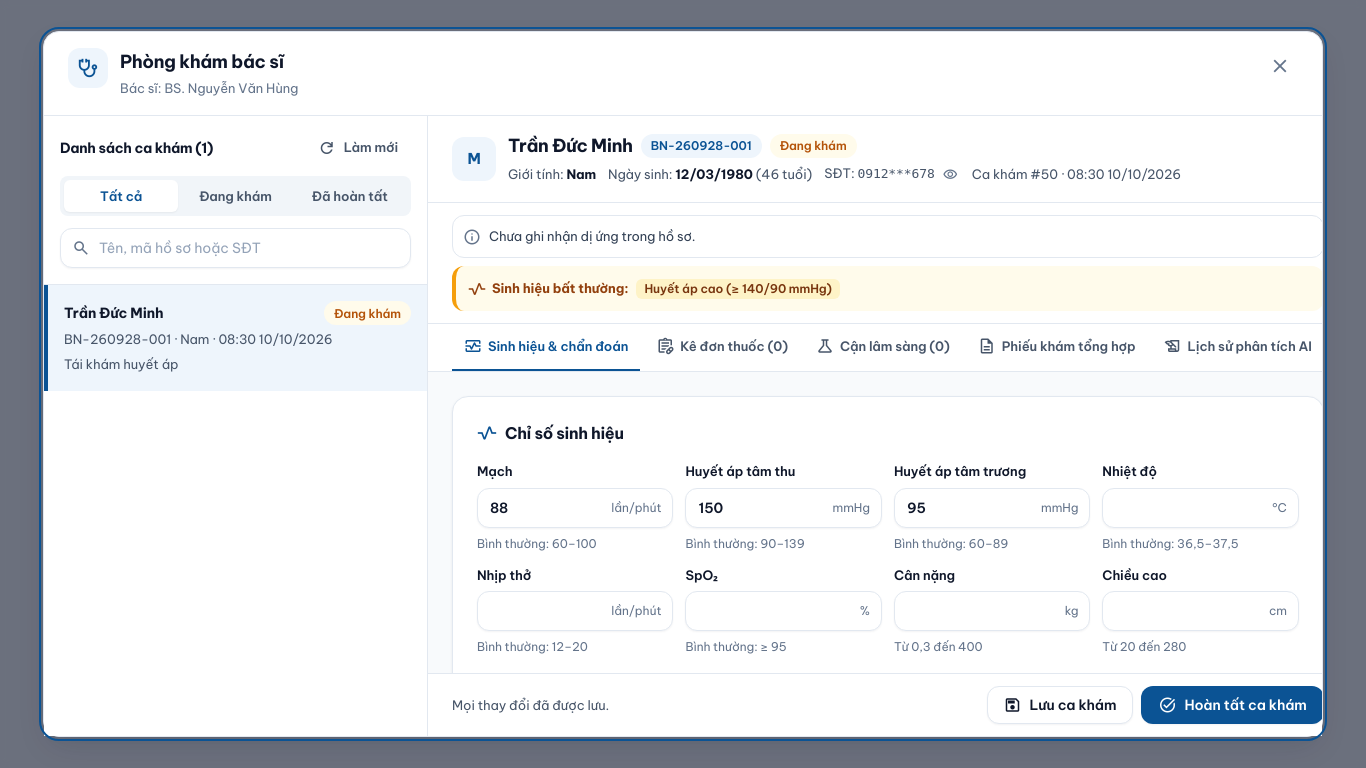
Scenario: Khám bệnh – giao diện Phòng khám bác sĩ (VisitDashboard) › hoàn tất ca khám bắt buộc có mã ICD-10 và không gọi máy chủ khi thiếu
Click the button "Hoàn tất ca khám".
click(1233, 705)  # box [1141,686,1324,724]
(page scrolled)
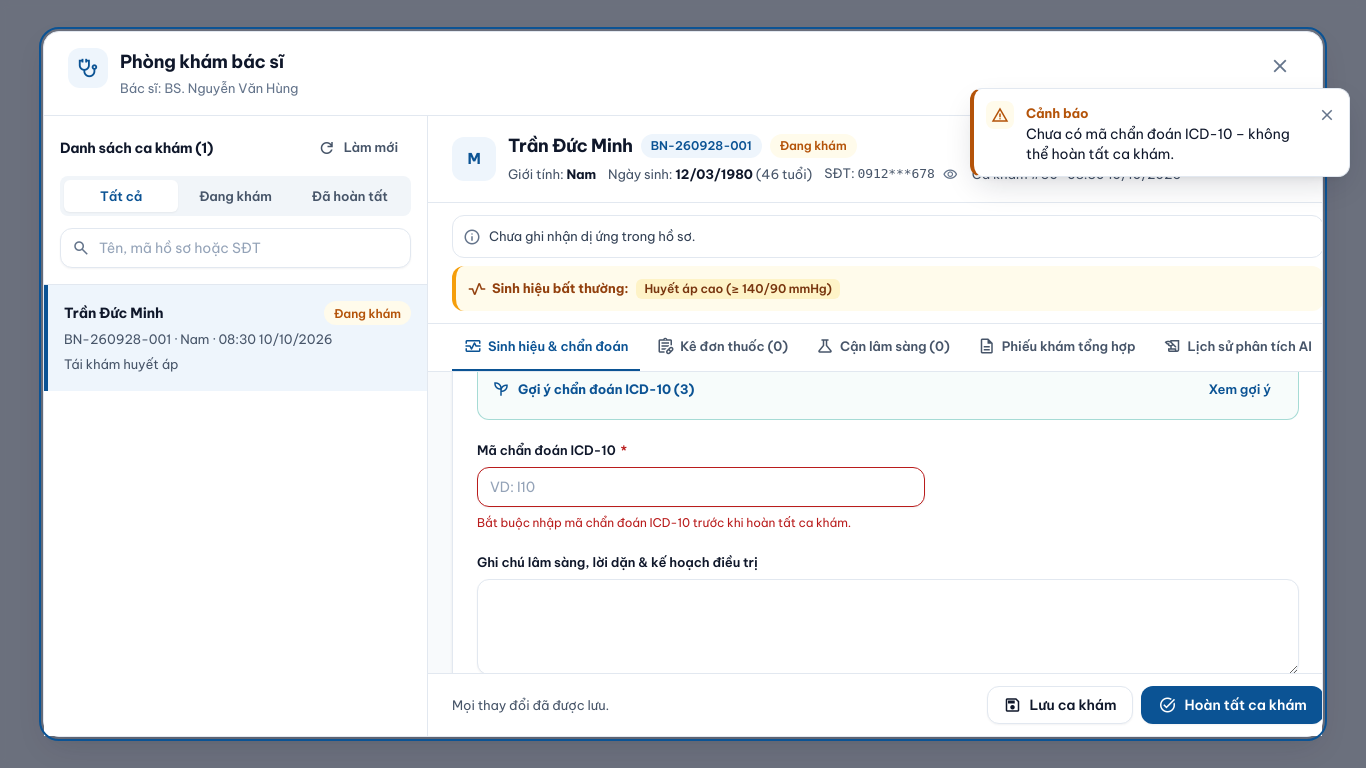
Check: the text "Bắt buộc nhập mã chẩn đoán ICD-10 trước khi hoàn tất ca khám." is shown, box [477,515,851,530]
